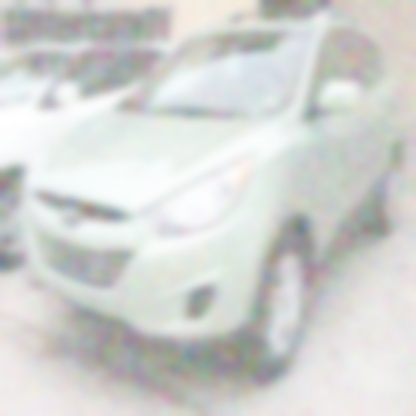Vehicle: (19, 10, 407, 385)
